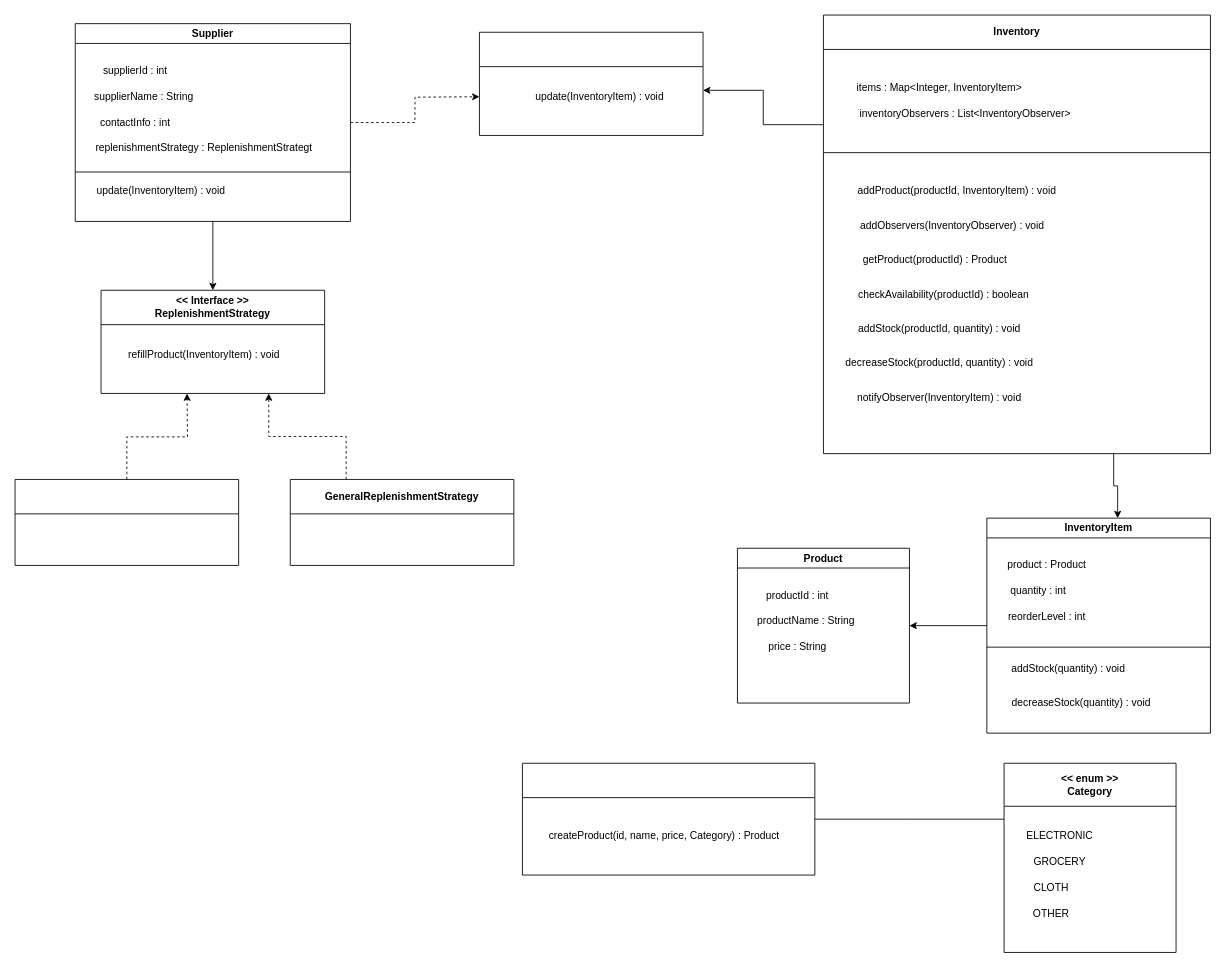
Image size: 1226x968. Some labels were removed from this diagram. The shapes that lost their labels are listed below. From the top down, each one's box as (x1, y1, x2, y2) in pixels, then its label:
(479, 31, 703, 135): << Interface >> InventoryObserver
(14, 479, 239, 565): BulkReplenishmentStrategy
(522, 762, 815, 875): ProductFactory
